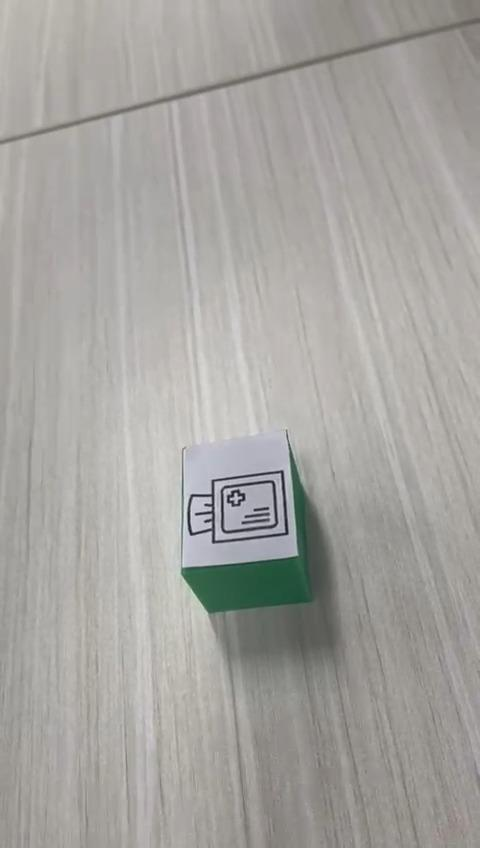Gauze: (179, 426, 314, 614)
